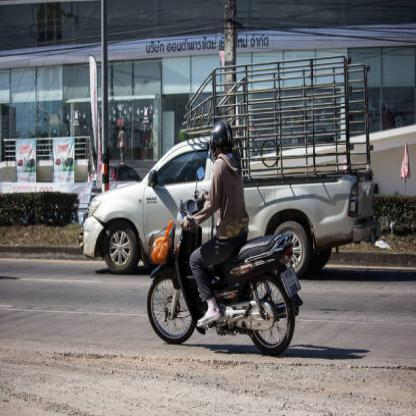Motorcycle: (141, 189, 300, 357)
